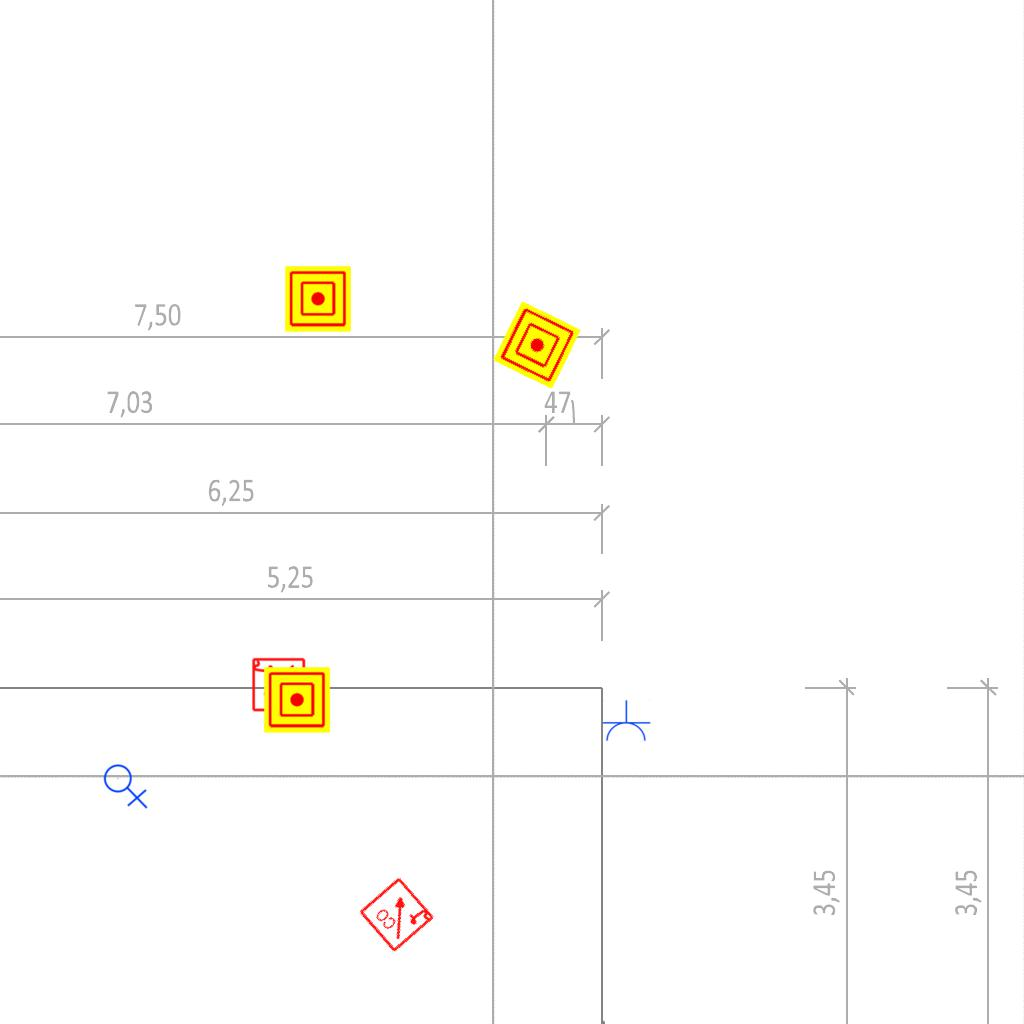Elektroanschluss_allgemein_230V_Geraeteanschlussdose_230V: (103, 760, 150, 809)
NAM-Nichtautomatischer_Melder: (492, 300, 582, 390), (285, 266, 351, 332), (264, 667, 330, 733)
ROA_Rauchmelder_optisch_mit_Signalgeber_(Sockelsirene): (357, 874, 437, 954), (250, 657, 306, 713)
Schukosteckdose_einfach: (601, 700, 651, 743)
